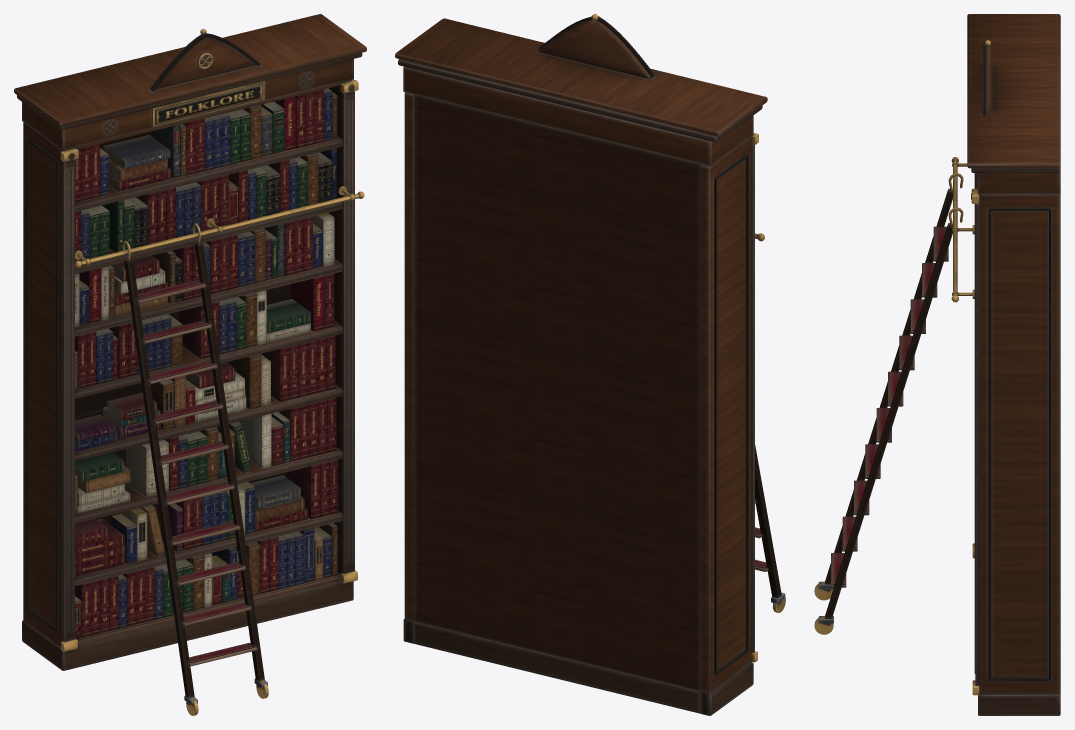
Rendered from LibShelfLadder.fbx.
3 views of the same model, side by side, from view 1: azimuth 30°, elevation 25°; view 2: azimuth 150°, elevation 25°; view 3: azimuth 270°, elevation 25° (orthographic). The views are drawn at different scales.
Parts seen in each view (by area): view 1: LibShelfLadder_Main, LibShelfLadder_Ladder; view 2: LibShelfLadder_Main, LibShelfLadder_Ladder; view 3: LibShelfLadder_Main, LibShelfLadder_Ladder.
Boxes of the visible parts, x1=… form: LibShelfLadder_Main: x1=14, y1=14, x2=366, y2=670; LibShelfLadder_Ladder: x1=122, y1=223, x2=268, y2=715; LibShelfLadder_Main: x1=395, y1=14, x2=767, y2=715; LibShelfLadder_Ladder: x1=755, y1=445, x2=785, y2=612; LibShelfLadder_Main: x1=951, y1=14, x2=1060, y2=715; LibShelfLadder_Ladder: x1=814, y1=173, x2=963, y2=634.
Bounding box in the file's own units: 746 × 1397 × 515.
